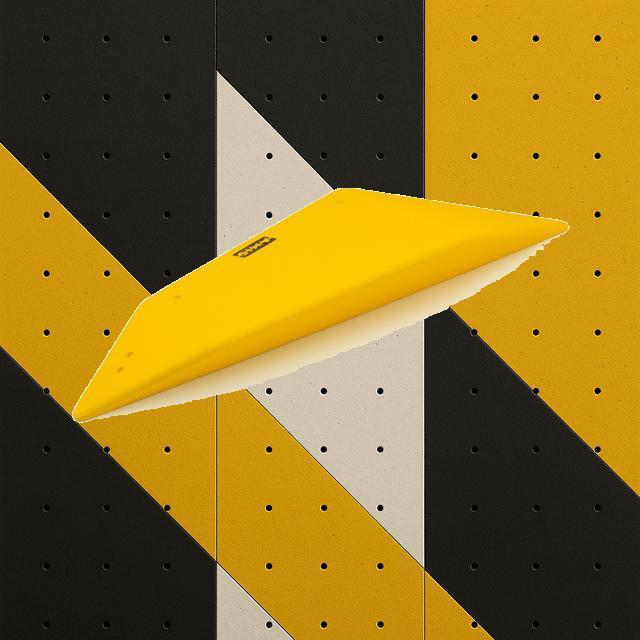Volume: (72, 186, 568, 422)
